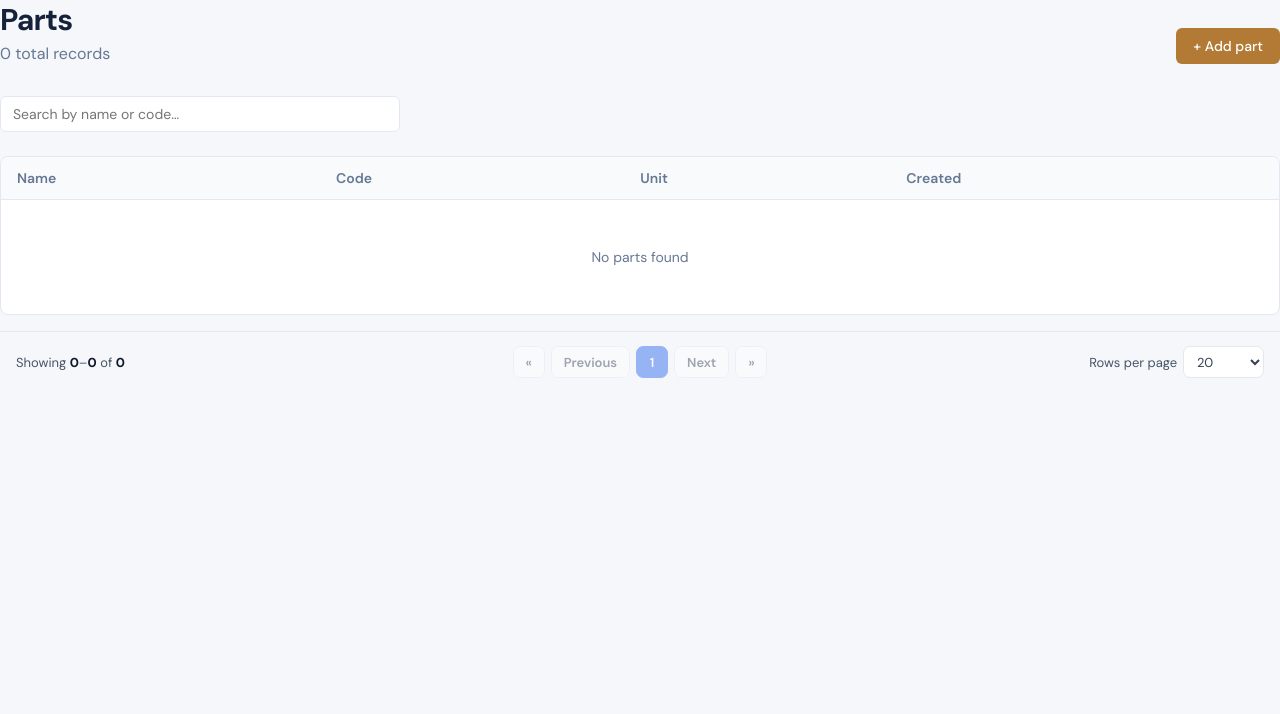
PartsPage › does not submit the create form when required fields are missing
Expected: the text "No parts found" is shown, [1,200,1279,314]
Click the button "+ Add part" at (1228, 46), box [1176,28,1279,64]
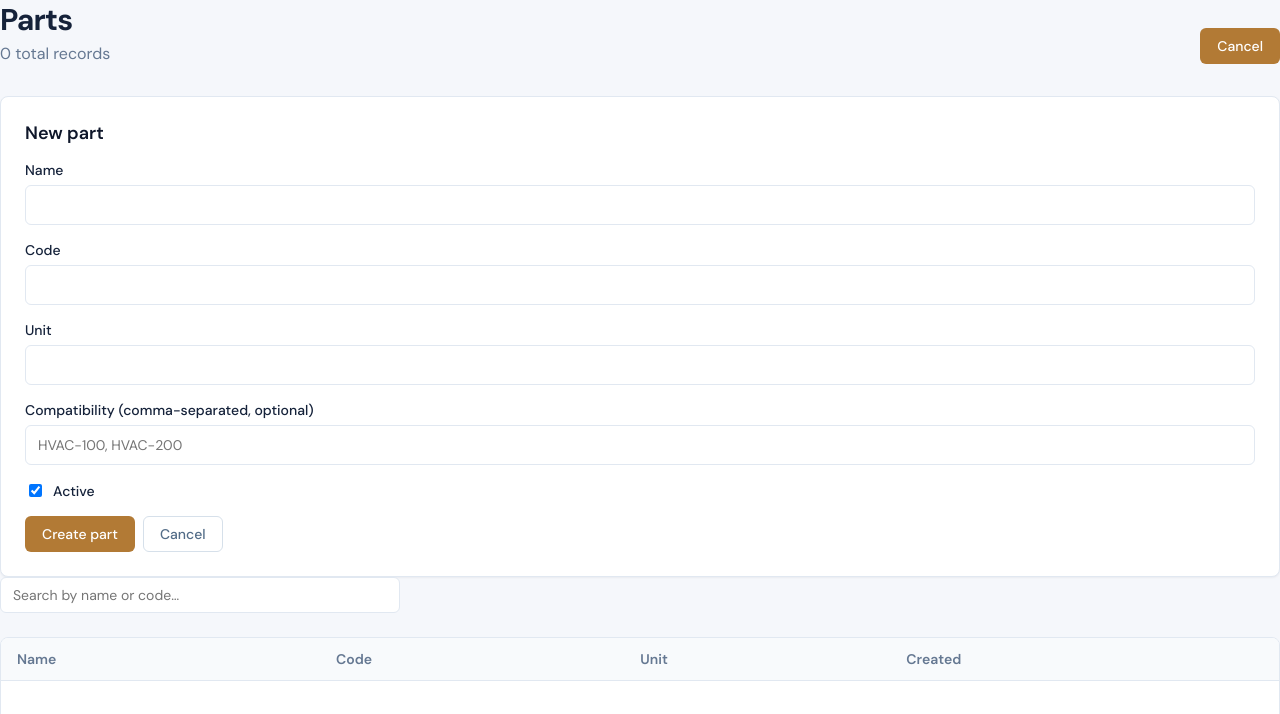
Click the button "Create part" at (80, 534), box [25,516,135,552]
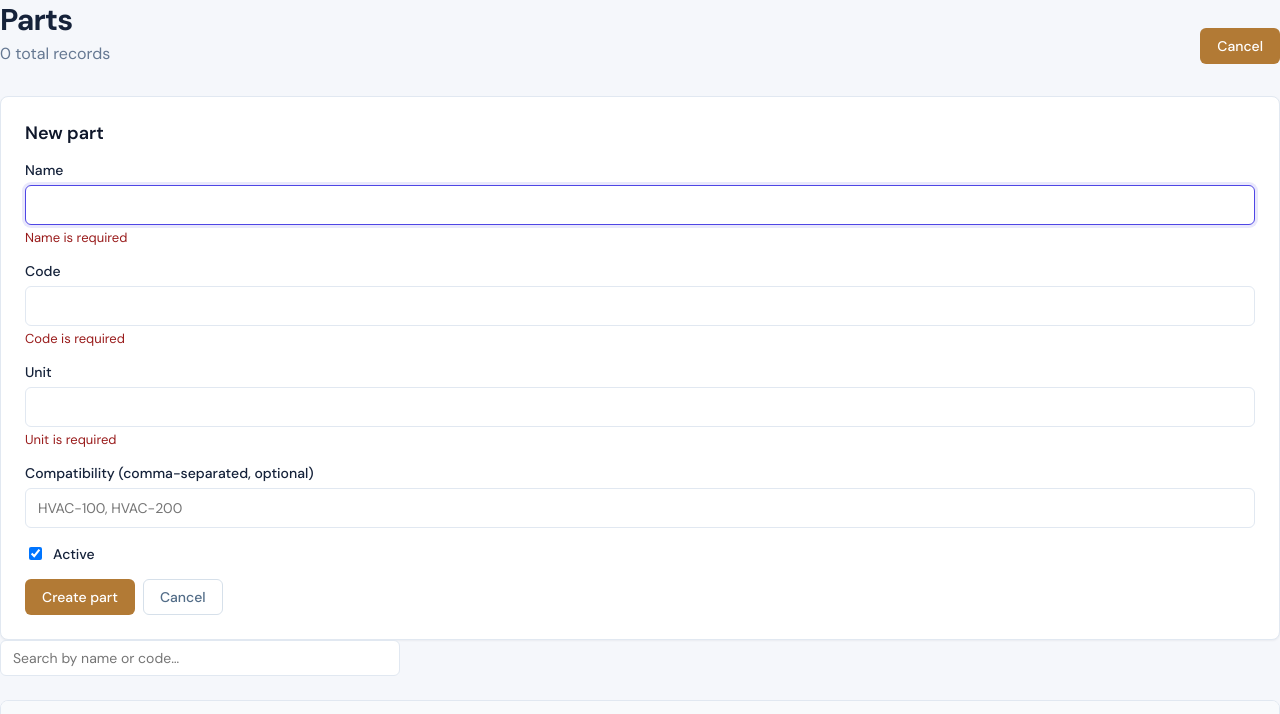
Expected: the text "Name is required" is shown, [25,229,127,246]
